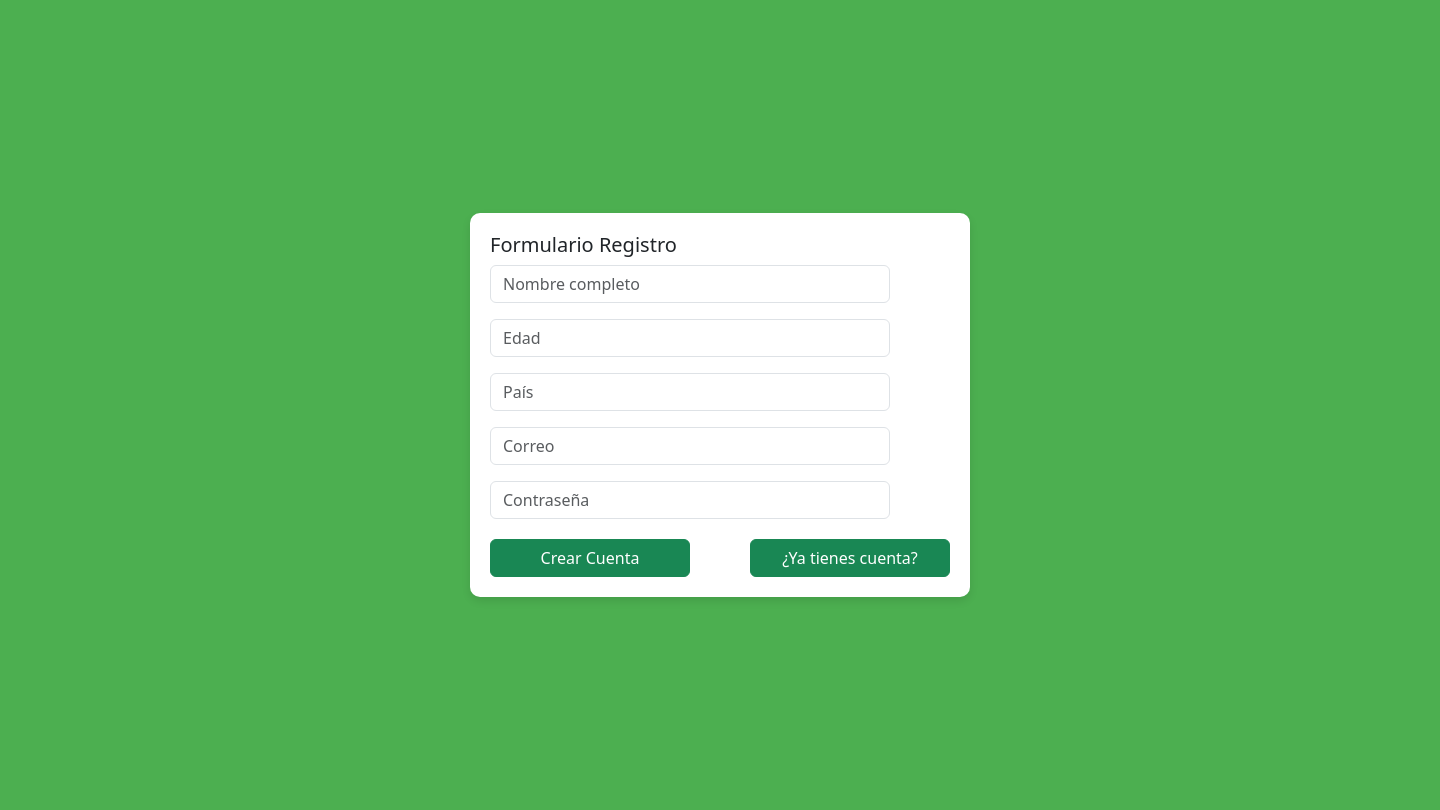
Test: Registro de Usuario - Tests de Integración › manejo de errores en el registro
Type "Usuario Test" into the field with placeholder "Nombre completo" at (690, 284), box top-left (490, 265), bottom-right (890, 303)
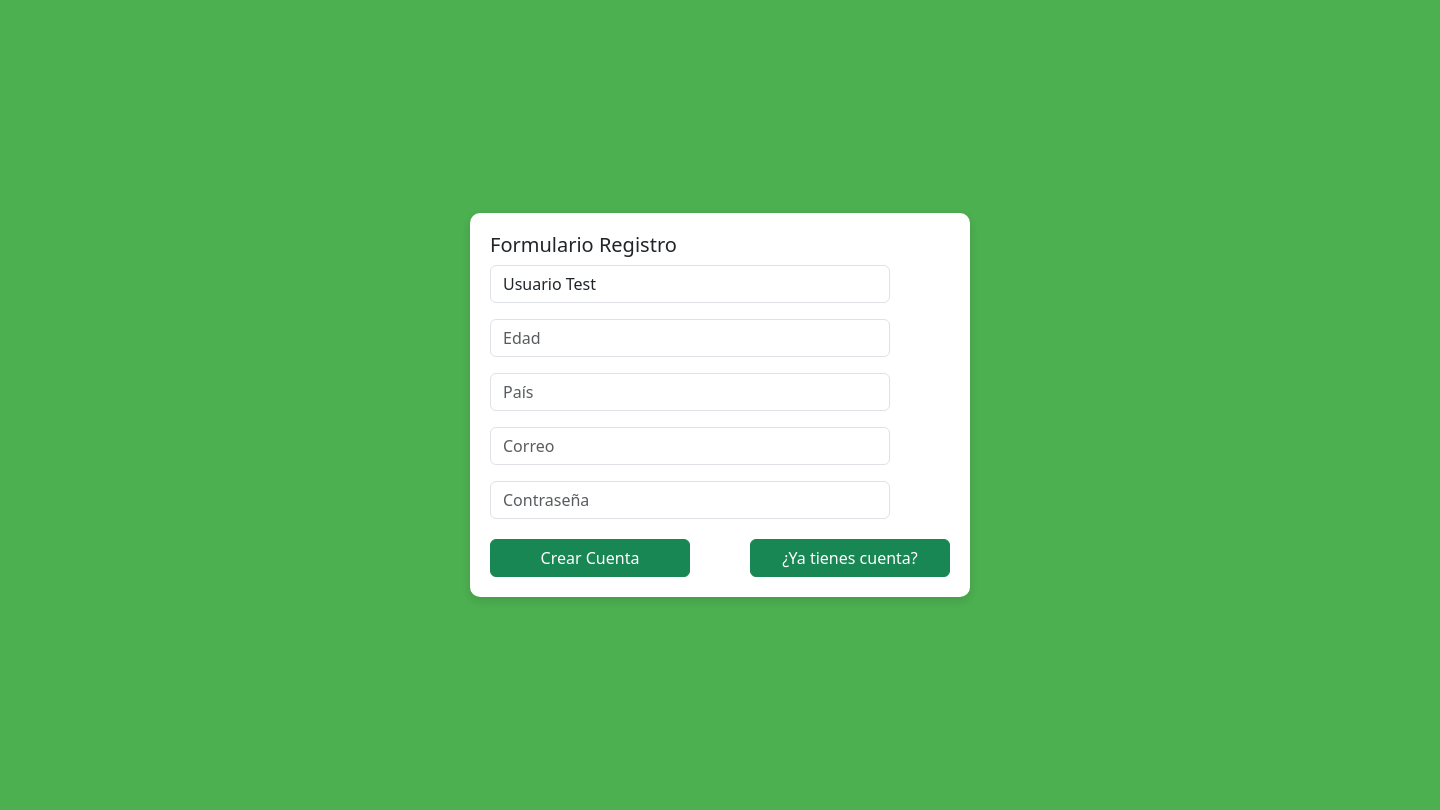
Type "25" into the field with placeholder "Edad" at (690, 338), box top-left (490, 319), bottom-right (890, 357)
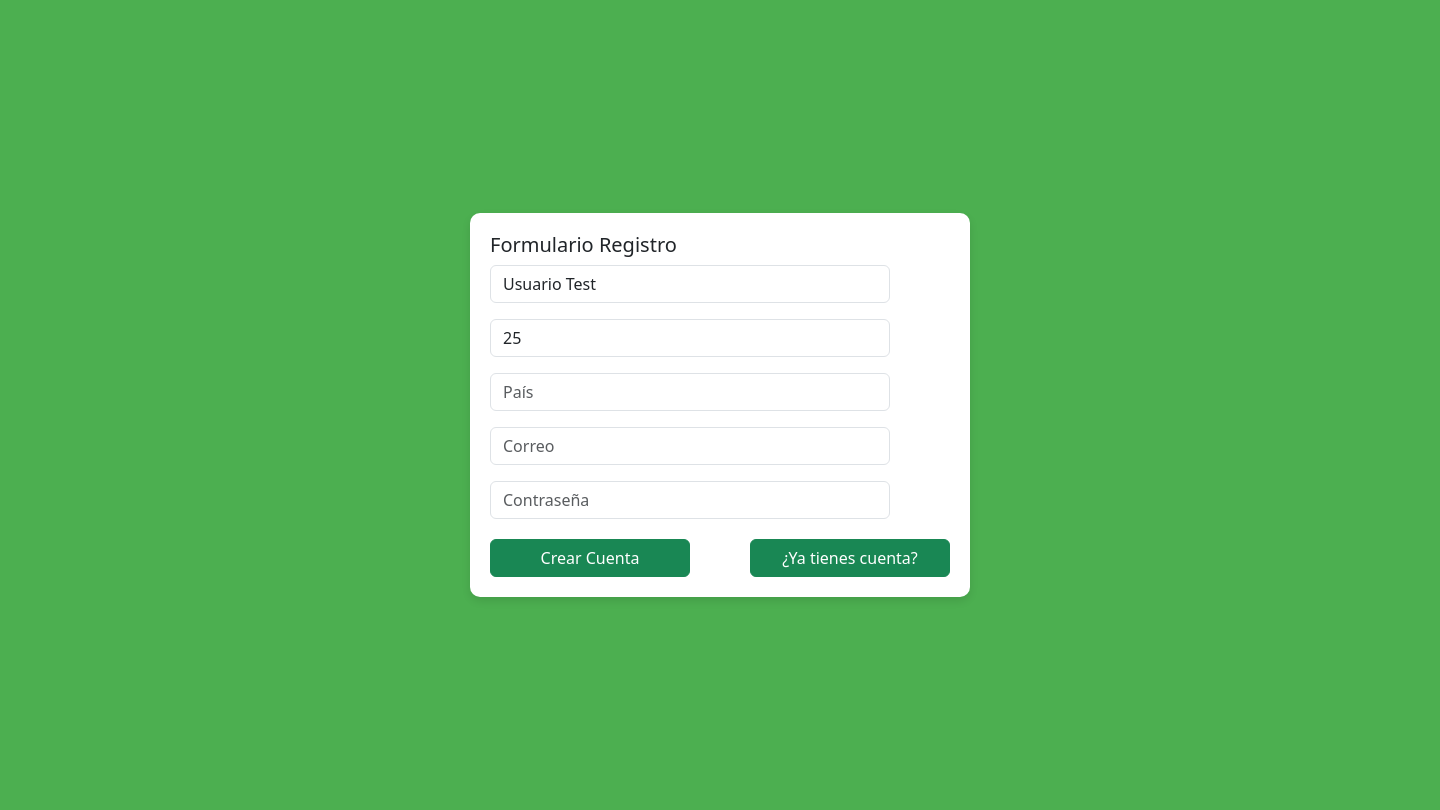
Type "España" into the field with placeholder "País" at (690, 392), box top-left (490, 373), bottom-right (890, 411)
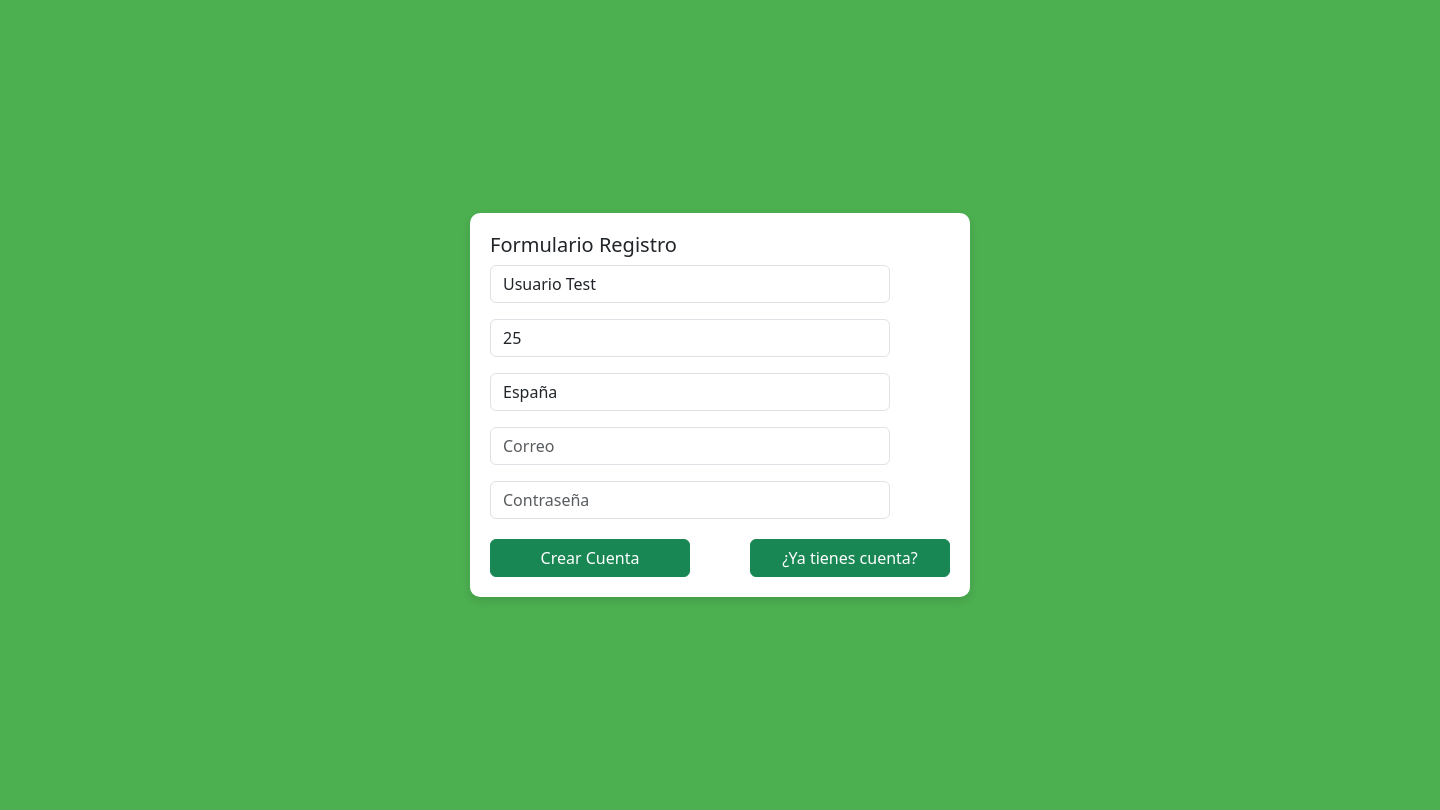
Type "existente@example.com" into the field with placeholder "Correo" at (690, 446), box top-left (490, 427), bottom-right (890, 465)
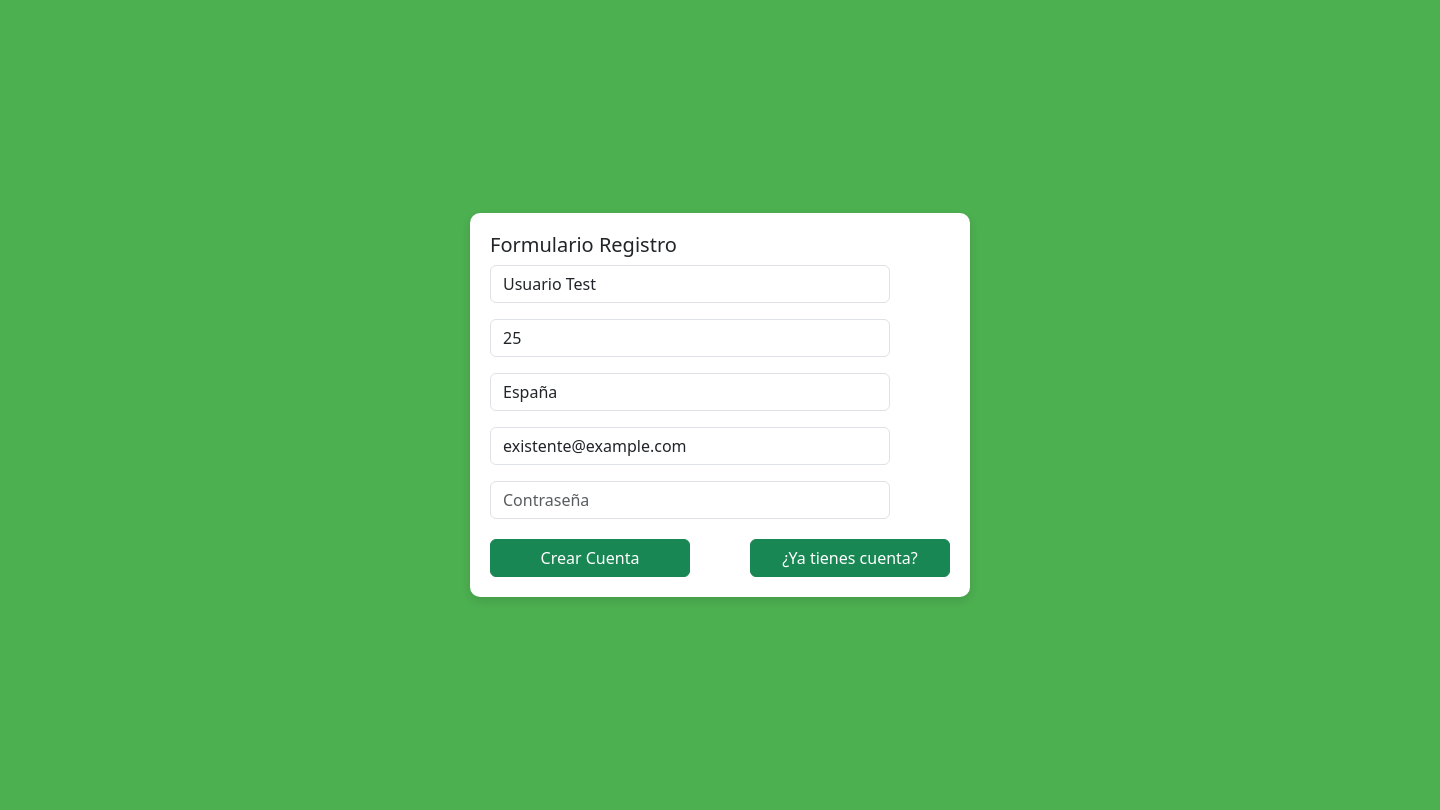
Type "password123" into the password field with placeholder "Contraseña" at (690, 500), box top-left (490, 481), bottom-right (890, 519)
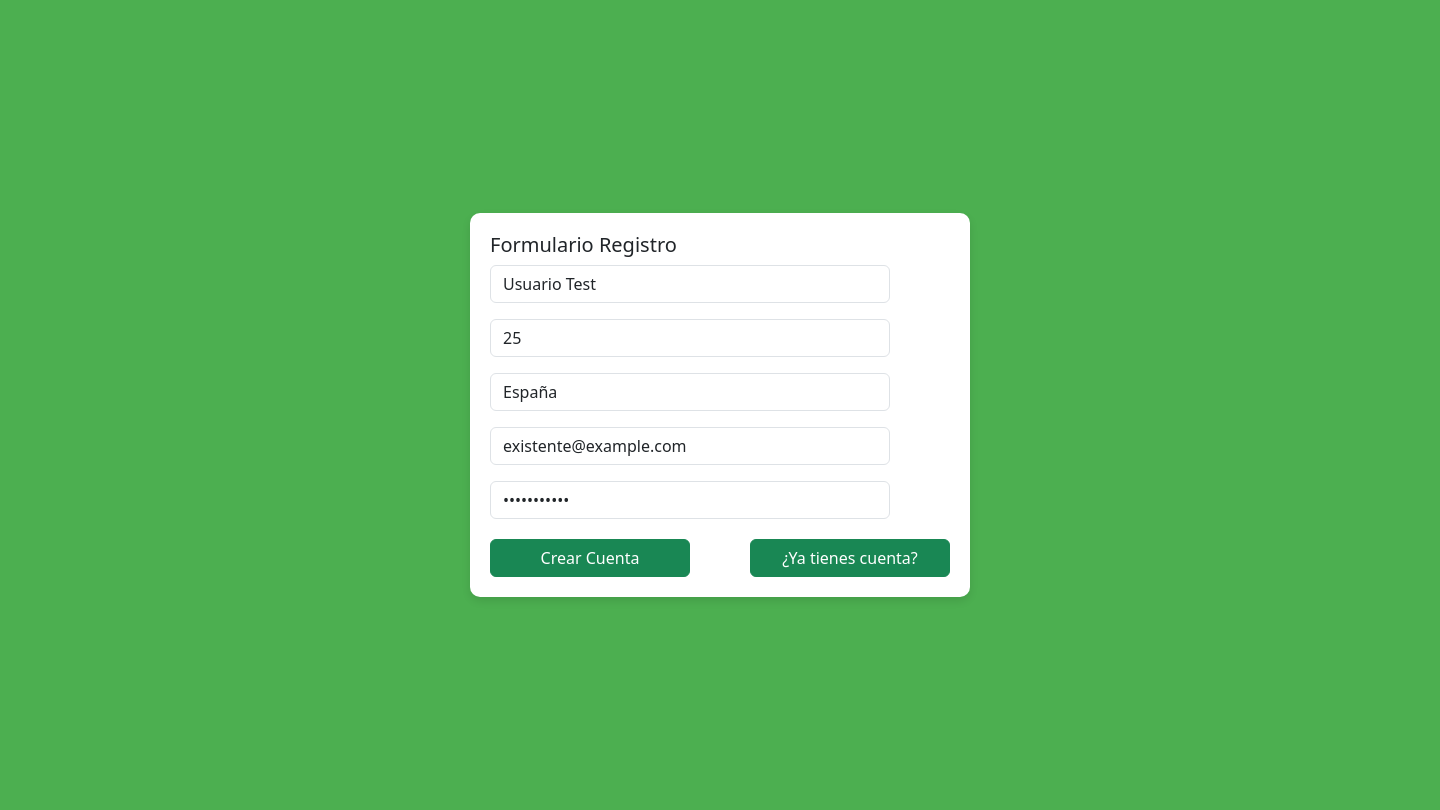
Click the button "Crear Cuenta" at (590, 558), box top-left (490, 539), bottom-right (690, 577)
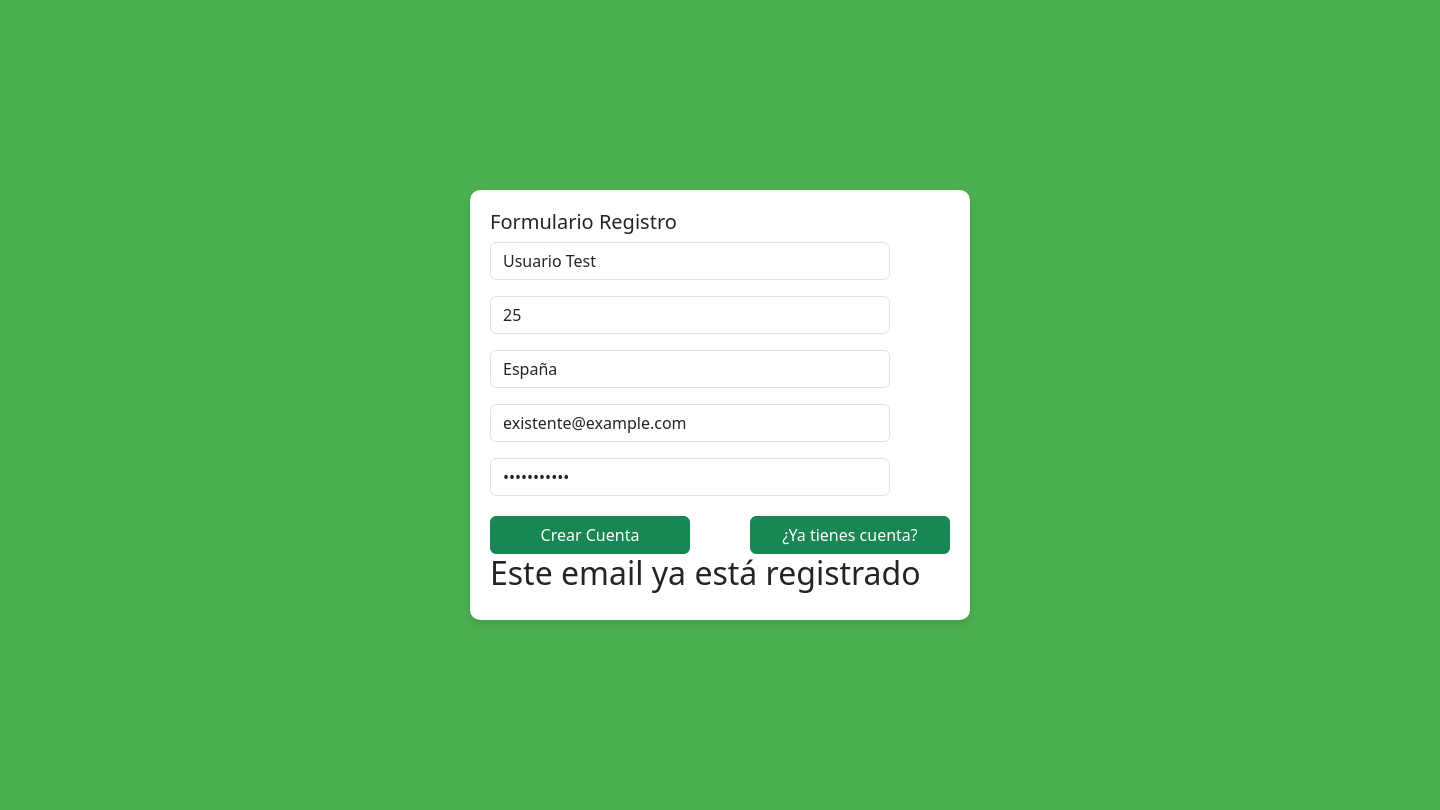
Result: the heading "Este email ya está registrado" is shown at top-left (490, 554), bottom-right (950, 592)
